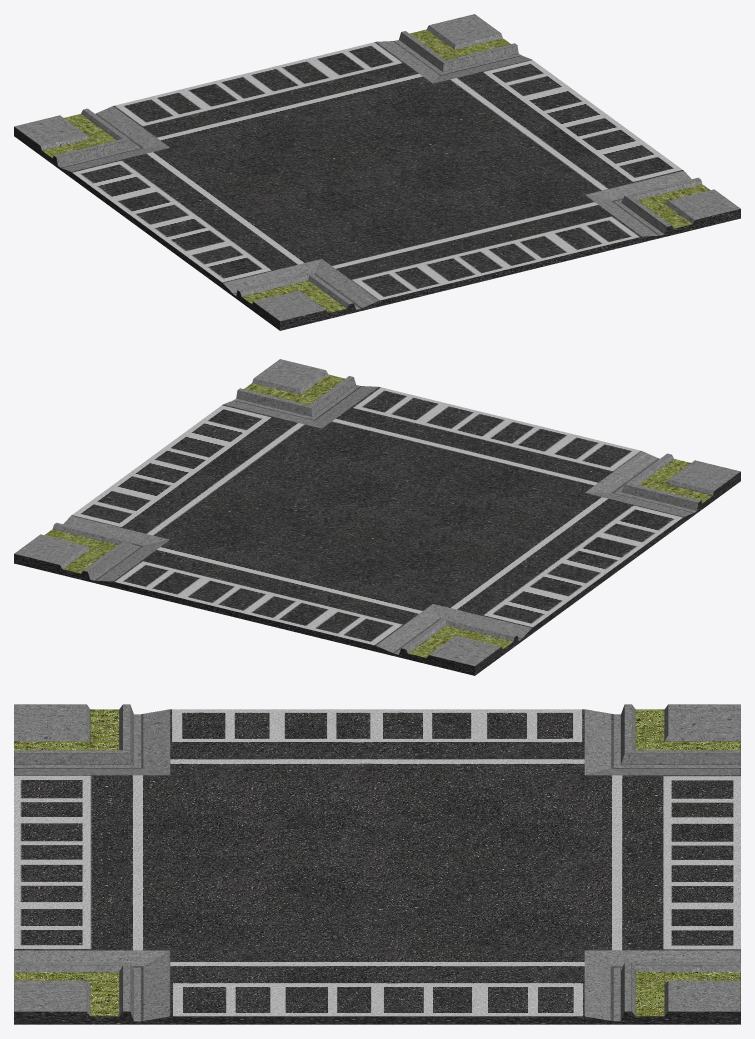
The model's file is Road-2-Lane-X.obj.
3 renders of one model, top to bottom at view 1: azimuth 30°, elevation 25°; view 2: azimuth 150°, elevation 25°; view 3: azimuth 270°, elevation 25°, orthographic. The views are drawn at different scales.
Parts seen in each view (by area): view 1: Road_2_Lane_X; view 2: Road_2_Lane_X; view 3: Road_2_Lane_X.
Part boxes in pixels (x1,y1,x2,y2): Road_2_Lane_X: [14, 14, 740, 330]; Road_2_Lane_X: [14, 359, 740, 675]; Road_2_Lane_X: [14, 704, 740, 1024].
Bounding box in the file's own units: 3600 × 72.48 × 3600.
Materials: 1 (1 with a texture image).
